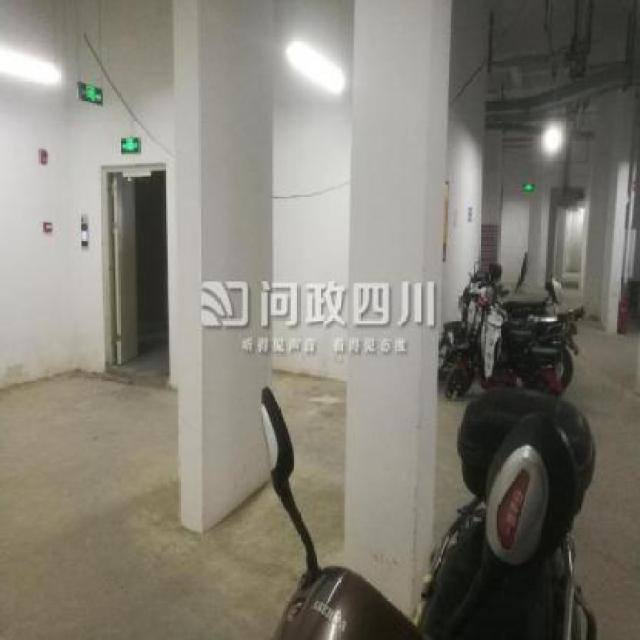exit_sign: (72, 76, 110, 110), (118, 134, 146, 157), (522, 180, 538, 198)
